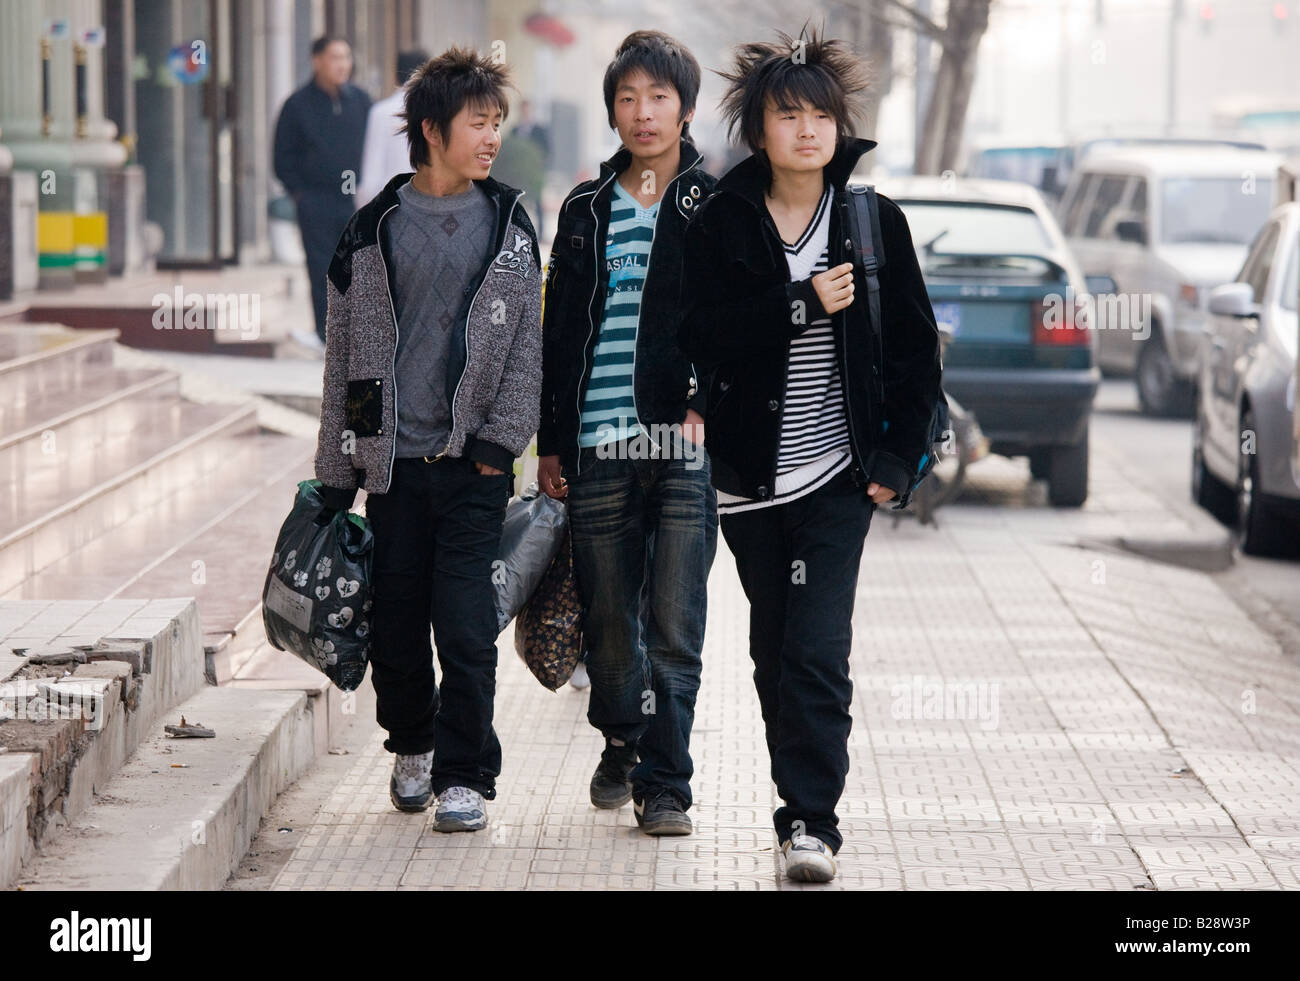car: (842, 170, 1102, 510), (1056, 139, 1274, 412), (1192, 201, 1300, 553)
person: (682, 39, 965, 882), (256, 48, 544, 837), (542, 28, 720, 836), (274, 33, 377, 352)
